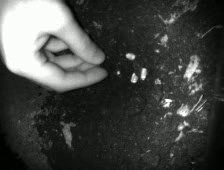corn: (137, 65, 149, 81), (122, 51, 138, 62), (129, 70, 140, 85), (113, 68, 123, 77)
